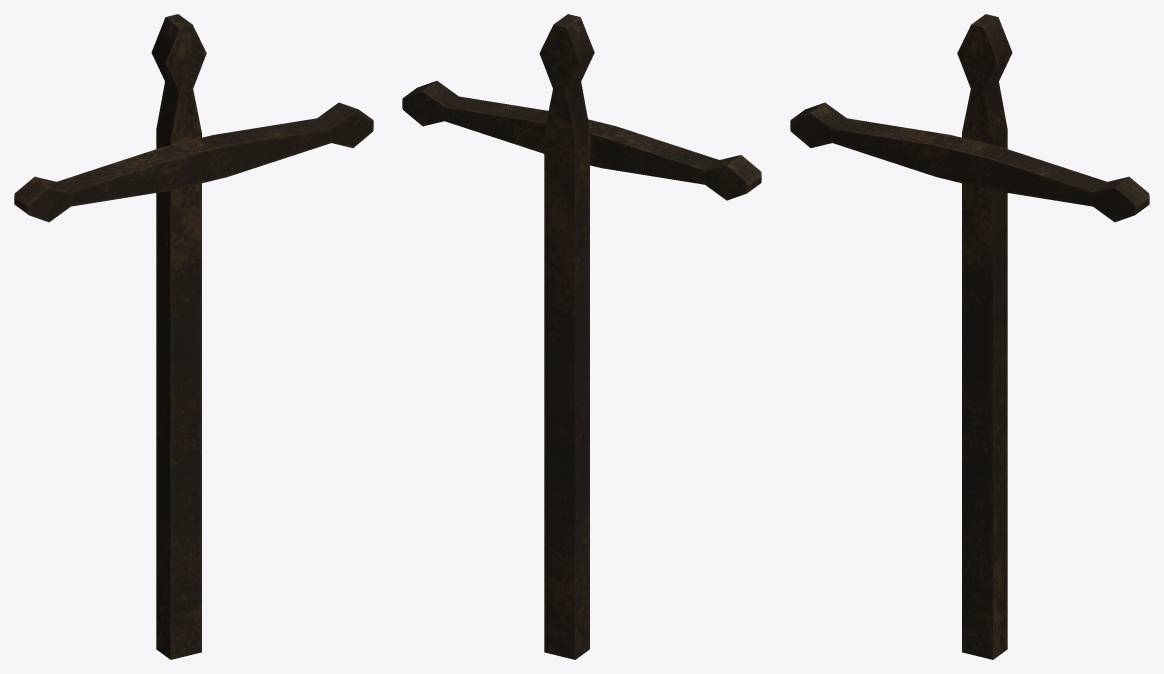
The model's file is cross_04.fbx.
The picture shows the model from 3 angles, left to right: view 1: azimuth 30°, elevation 25°; view 2: azimuth 150°, elevation 25°; view 3: azimuth 330°, elevation 25°; orthographic projection.
Visible parts, largest first — view 1: cross_04; view 2: cross_04; view 3: cross_04.
Boxes of the visible parts, box(x1,y1,x2,y2) form: cross_04: box(14, 14, 373, 659); cross_04: box(402, 14, 761, 659); cross_04: box(790, 14, 1149, 659).
Bounding box in the file's own units: 0.1702 × 0.2946 × 0.0249.
1 material, 1 textured.
